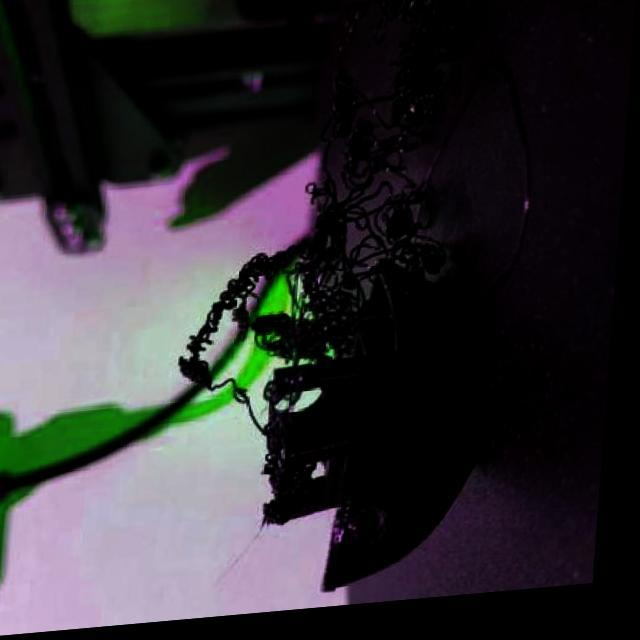spaghetti: (178, 0, 470, 427), (264, 421, 333, 530)
